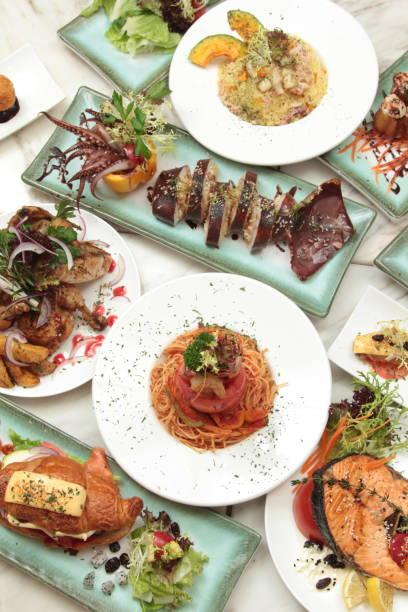Braised Crucian Carp: (21, 80, 373, 314), (92, 274, 328, 505), (0, 418, 263, 612), (168, 0, 377, 167), (263, 413, 408, 610), (0, 203, 141, 402)
